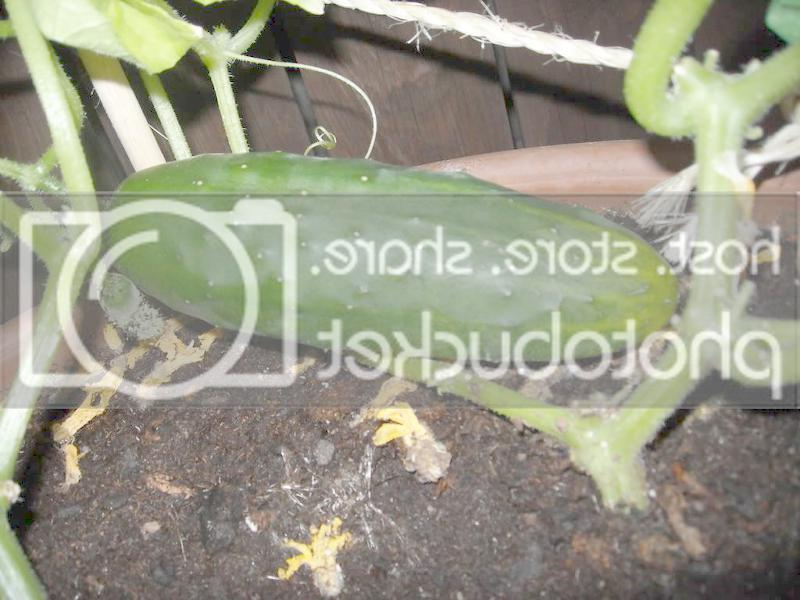Cucumber: (106, 154, 677, 366)
